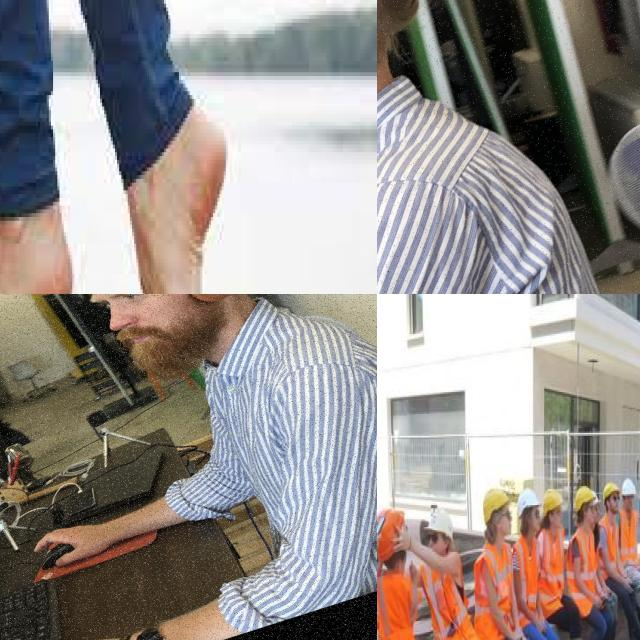Ear-protection: (54, 294, 288, 405)
Sandals: (115, 88, 229, 294)
face_nomask: (498, 506, 515, 536), (550, 500, 564, 530), (528, 505, 541, 535), (582, 498, 594, 526), (607, 492, 619, 512)
hand_noglove: (393, 522, 413, 558), (619, 571, 634, 596), (509, 623, 529, 640), (535, 613, 547, 635), (591, 588, 601, 612), (377, 533, 382, 569)
head_helmet: (422, 499, 459, 541), (377, 506, 404, 559), (478, 488, 514, 522), (516, 488, 540, 518), (572, 483, 594, 508), (545, 490, 565, 514), (602, 477, 619, 497), (622, 480, 639, 497)
person: (417, 514, 489, 640), (377, 516, 434, 640), (477, 486, 521, 640), (571, 483, 600, 640), (546, 484, 570, 634), (521, 492, 544, 640), (601, 478, 626, 608), (617, 476, 640, 597)
vest: (423, 561, 473, 640), (477, 550, 512, 640), (377, 572, 416, 640), (569, 522, 598, 610), (518, 532, 540, 613), (544, 535, 561, 608), (622, 512, 639, 558), (602, 519, 618, 566)
